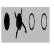correct: (4, 11, 10, 32)
not correct: (14, 7, 27, 41)
